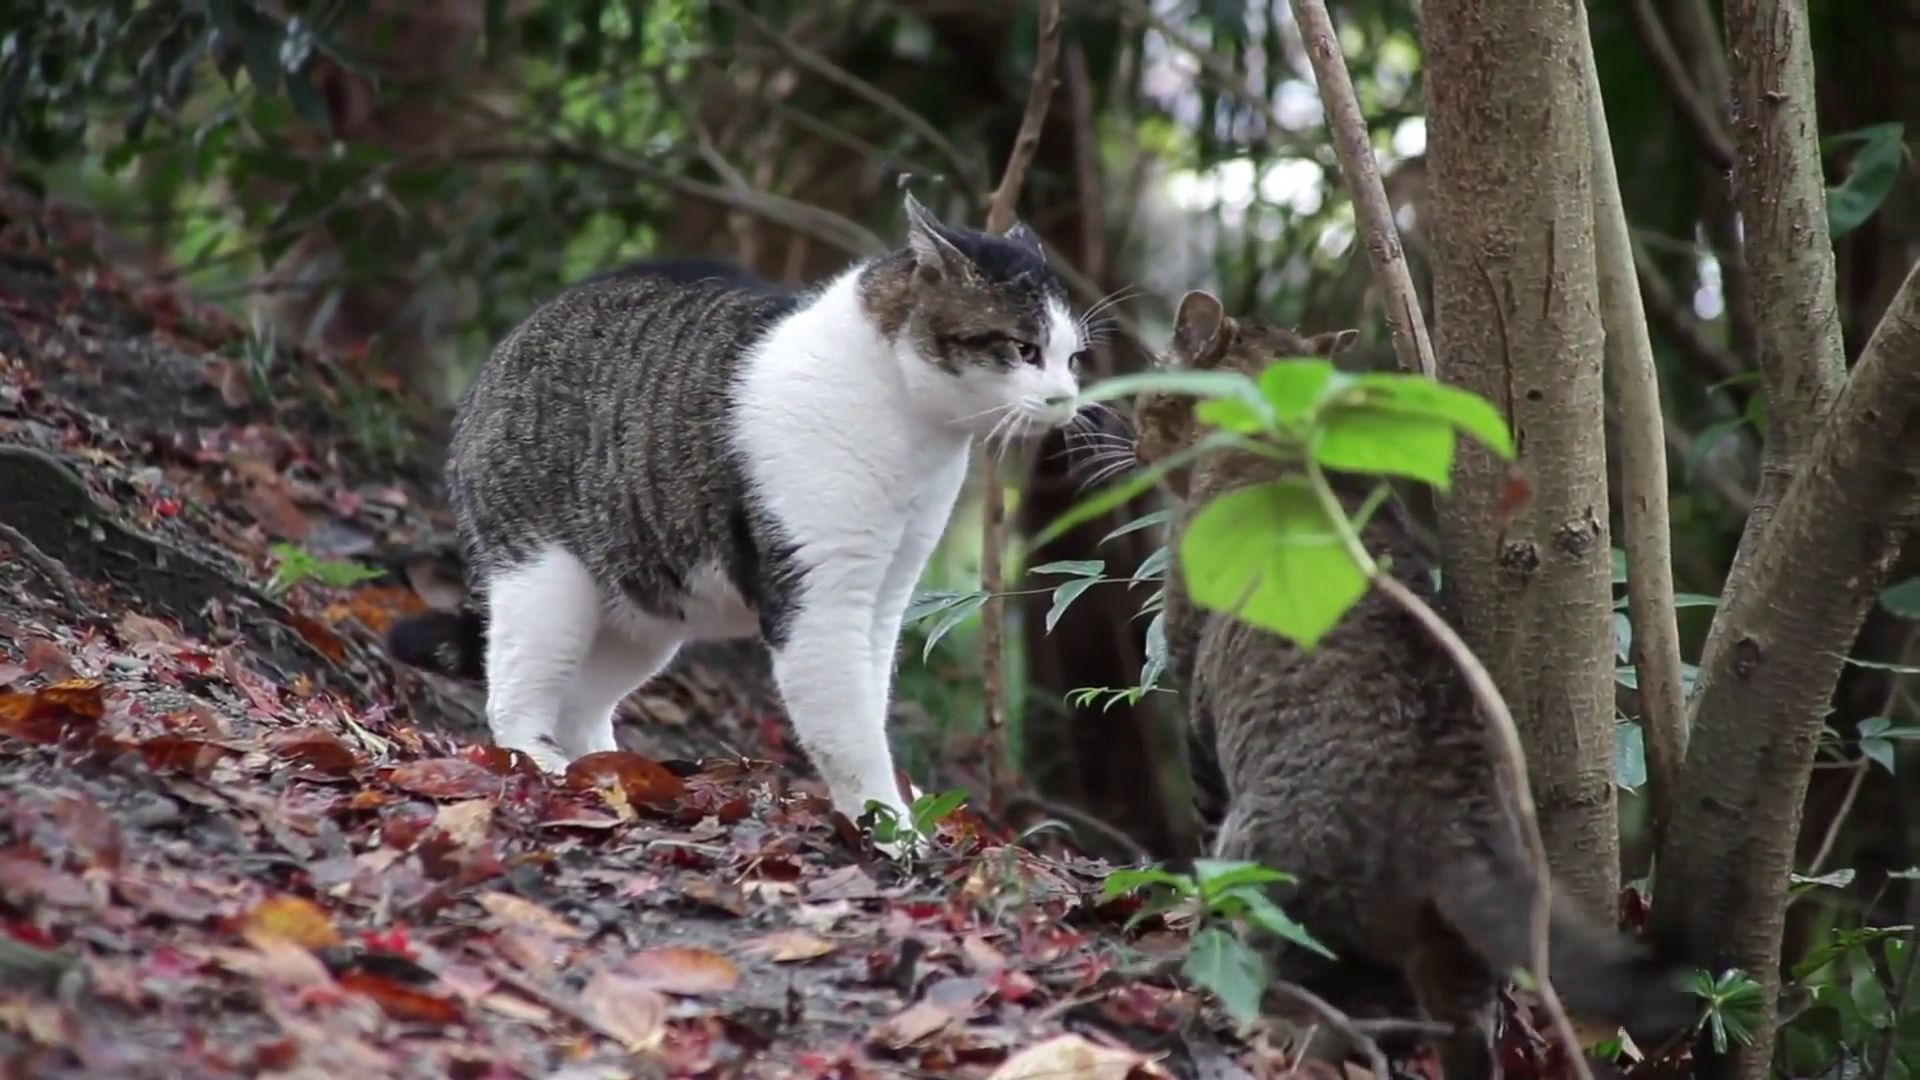black-white: (396, 193, 1089, 872)
pure black: (1127, 290, 1553, 1027)
